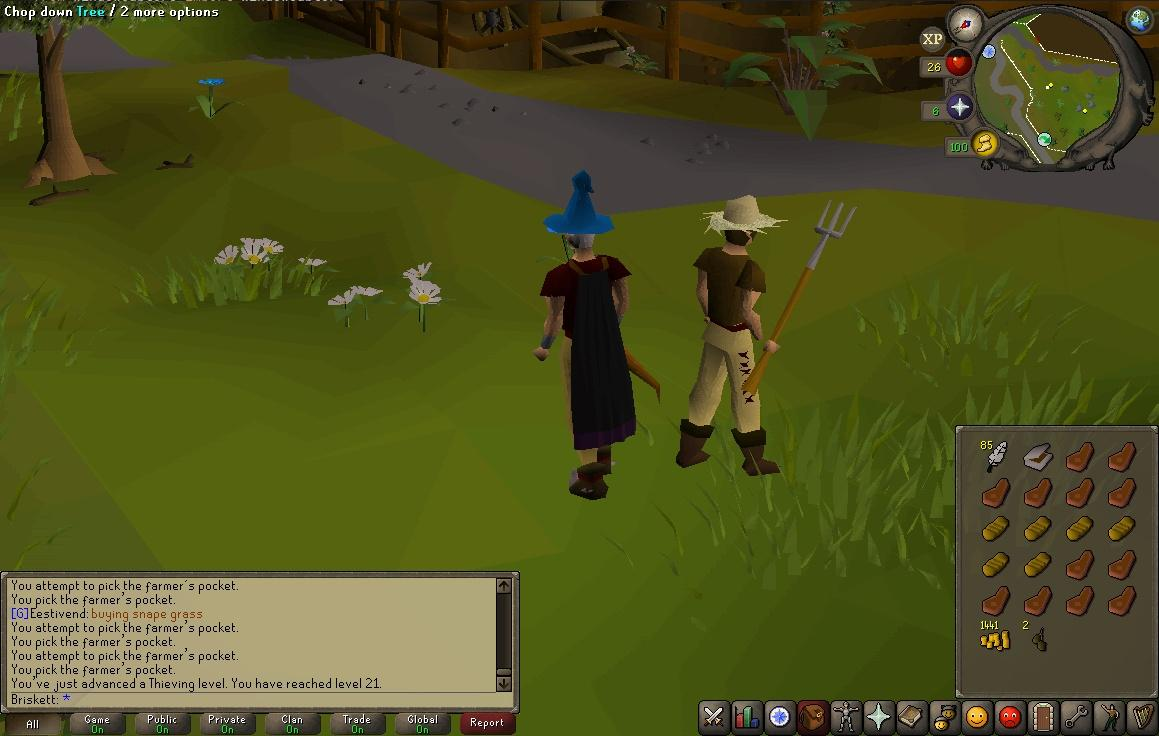Farmer: (675, 194, 788, 477)
